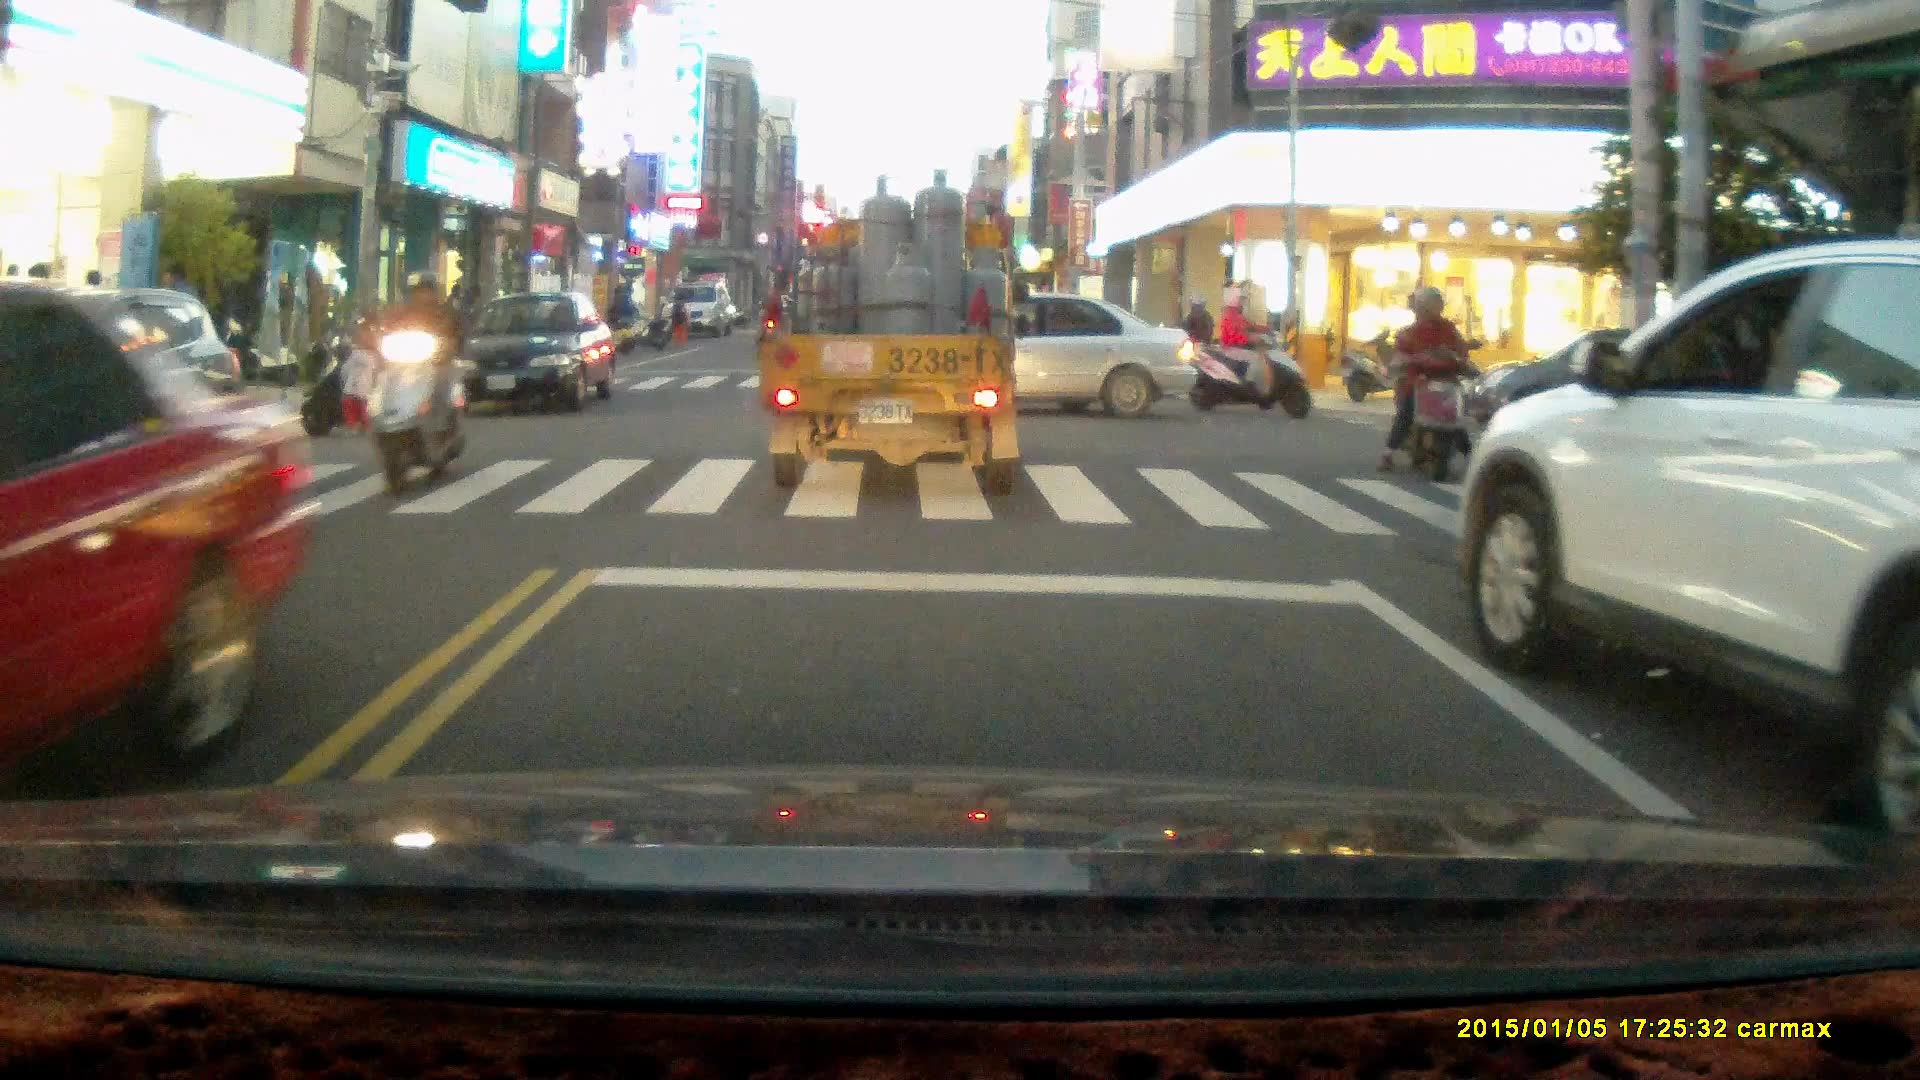pedestrian: (335, 330, 379, 439), (611, 282, 638, 345)
rider: (358, 268, 471, 497), (1372, 285, 1490, 488), (1184, 285, 1313, 414), (1135, 290, 1230, 400)
vehicle: (1462, 238, 1920, 835), (1, 275, 304, 799), (764, 177, 1027, 503), (820, 290, 1199, 419), (449, 292, 620, 415), (662, 283, 732, 336)
